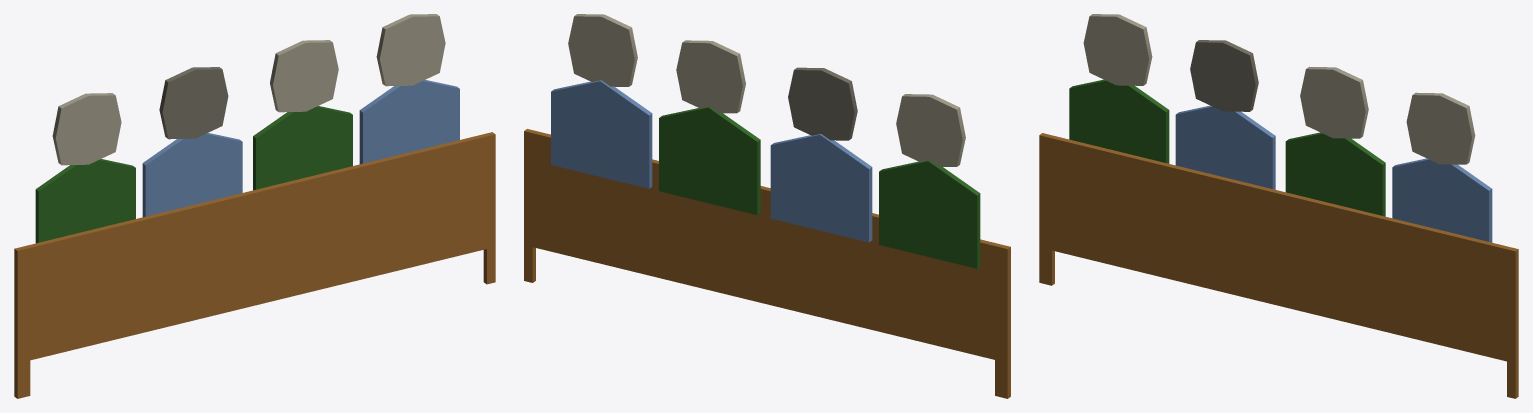
The model's file is ProtoThroneRoom_Crowd.fbx.
3 views of the same model, side by side, from view 1: azimuth 30°, elevation 25°; view 2: azimuth 150°, elevation 25°; view 3: azimuth 330°, elevation 25° (orthographic).
Visible parts, largest first — view 1: Pue, People; view 2: People, Pue; view 3: Pue, People.
Boxes of the visible parts, x1,y1,x2,y2 form: Pue: (14,132,495,398); People: (35,14,459,243); People: (551,14,980,268); Pue: (524,129,1010,398); Pue: (1039,133,1518,398); People: (1069,14,1492,242).
Size of the model in its own units: 211 by 119 by 5.81.
